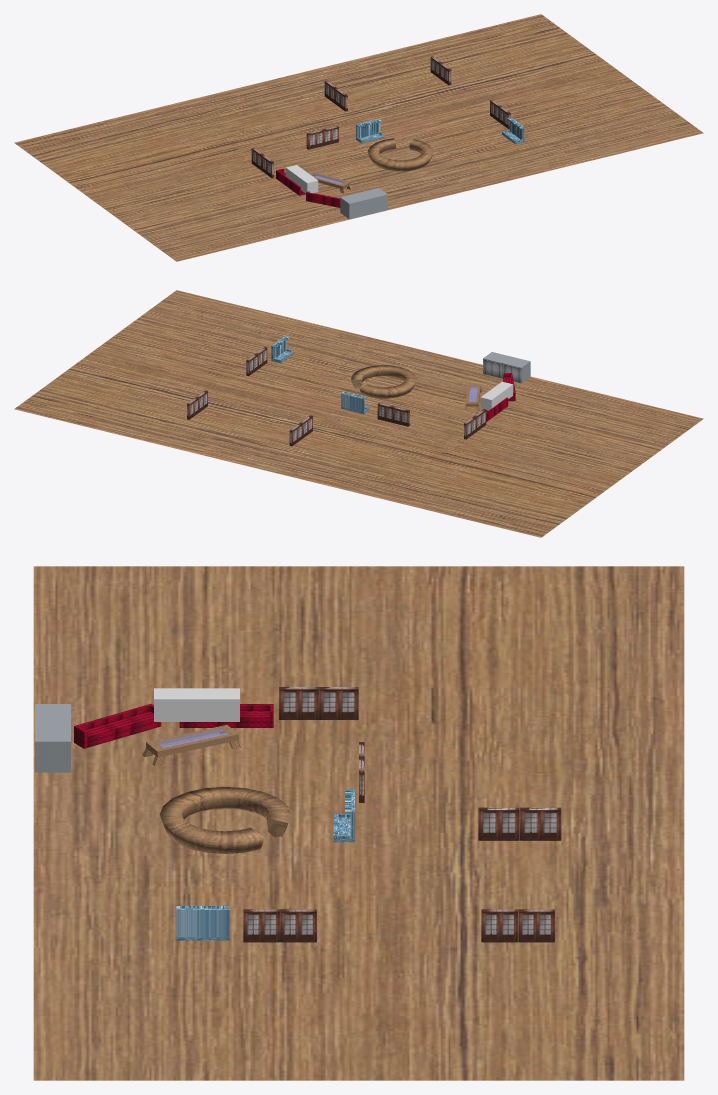
The model's file is recepcion.FBX.
The picture shows the model from 3 angles, top to bottom: view 1: azimuth 30°, elevation 25°; view 2: azimuth 150°, elevation 25°; view 3: azimuth 270°, elevation 25°; orthographic projection. The views are drawn at different scales.
Parts seen in each view (by area): view 1: Plane002, Torus001, Box012, Box014, Box011, Box016, Box017; view 2: Plane002, Torus001, Box012, Box014, Box011, Box016; view 3: Plane002, Torus001, Box014, Box012, Box015, Box016, Box017, Box010, Box009, Box001, Box002, Box006 (+5 smaller).
Boxes of the visible parts, x1,y1,x2,y2 form: Plane002: [14, 14, 703, 261]; Torus001: [368, 138, 433, 171]; Box012: [340, 188, 387, 219]; Box014: [285, 165, 318, 193]; Box011: [356, 119, 384, 143]; Box016: [502, 117, 524, 144]; Box017: [309, 171, 352, 193]; Plane002: [14, 290, 703, 537]; Torus001: [351, 365, 416, 398]; Box012: [483, 352, 530, 383]; Box014: [480, 381, 513, 410]; Box011: [341, 391, 369, 413]; Box016: [271, 336, 293, 363]; Plane002: [33, 566, 684, 1080]; Torus001: [160, 787, 291, 853]; Box014: [154, 688, 239, 721]; Box012: [35, 704, 70, 772]; Box015: [74, 703, 161, 748]; Box016: [176, 906, 229, 940]; Box017: [142, 725, 241, 766]; Box010: [478, 807, 519, 840]; Box009: [520, 807, 561, 840]; Box001: [279, 687, 318, 719]; Box002: [319, 687, 358, 719]; Box006: [243, 909, 280, 942].
Size of the model in its own units: 1786 by 56.07 by 955.
7 materials, 5 textured.
